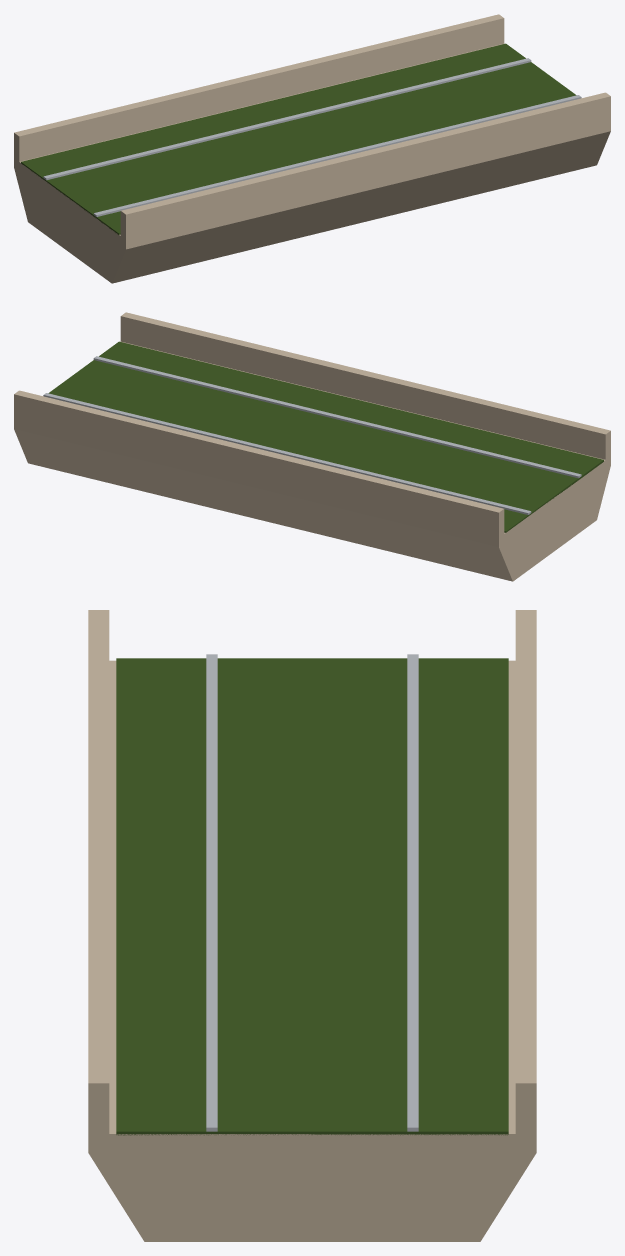
File: city_rail_track_8.glb
3 renders of one model, top to bottom at view 1: azimuth 30°, elevation 25°; view 2: azimuth 150°, elevation 25°; view 3: azimuth 270°, elevation 25°, orthographic. The views are drawn at different scales.
Visible parts, largest first — view 1: CityRailTrack8_Beam, CityRailTrack8_BeamBed, CityRailTrack8_BeamRail1, CityRailTrack8_BeamRail-1; view 2: CityRailTrack8_Beam, CityRailTrack8_BeamBed, CityRailTrack8_BeamRail-1, CityRailTrack8_BeamRail1; view 3: CityRailTrack8_BeamBed, CityRailTrack8_Beam, CityRailTrack8_BeamRail1, CityRailTrack8_BeamRail-1.
Boxes of the visible parts, bbox=[...] form: CityRailTrack8_Beam: bbox=[14, 14, 610, 283]; CityRailTrack8_BeamBed: bbox=[21, 43, 576, 234]; CityRailTrack8_BeamRail1: bbox=[43, 58, 531, 180]; CityRailTrack8_BeamRail-1: bbox=[93, 95, 581, 216]; CityRailTrack8_Beam: bbox=[14, 312, 610, 581]; CityRailTrack8_BeamBed: bbox=[48, 341, 603, 532]; CityRailTrack8_BeamRail-1: bbox=[93, 356, 581, 478]; CityRailTrack8_BeamRail1: bbox=[43, 393, 531, 514]; CityRailTrack8_BeamBed: bbox=[116, 658, 508, 1135]; CityRailTrack8_Beam: bbox=[88, 610, 536, 1241]; CityRailTrack8_BeamRail1: bbox=[407, 654, 418, 1131]; CityRailTrack8_BeamRail-1: bbox=[206, 654, 217, 1131].
Bounding box in the file's own units: 8 × 1.25 × 3.2.
